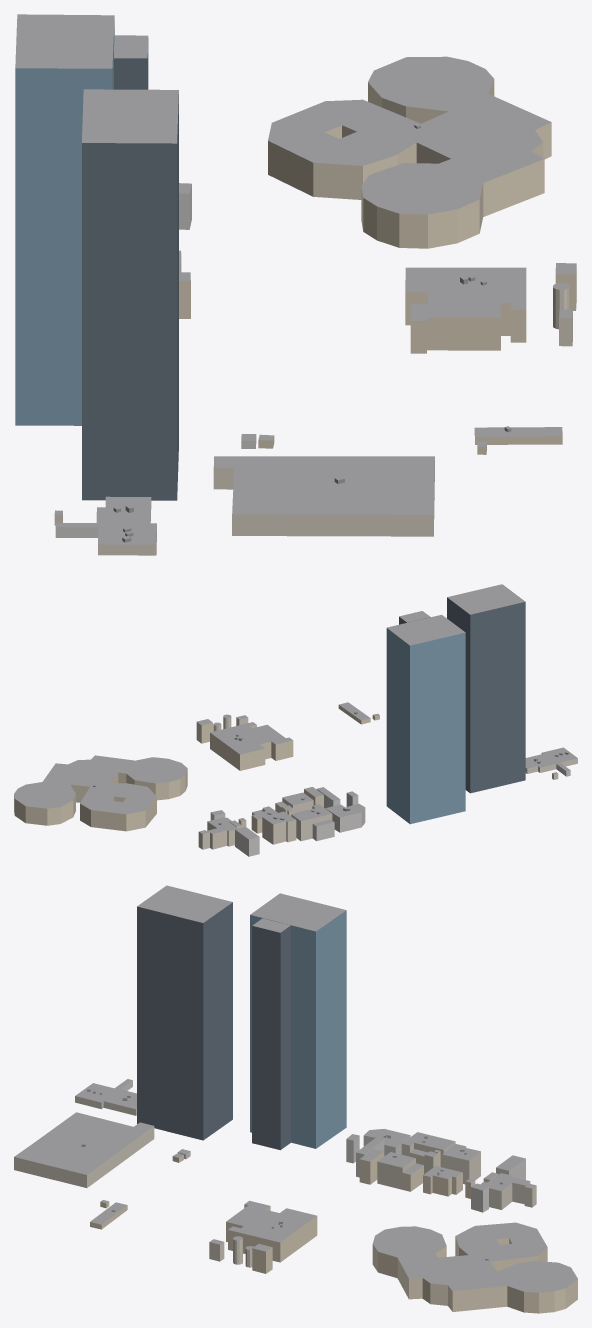
Rendered from building_-4_-4.glb.
3 renders of one model, top to bottom at view 1: azimuth 30°, elevation 25°; view 2: azimuth 150°, elevation 25°; view 3: azimuth 270°, elevation 25°, orthographic. The views are drawn at different scales.
Visible parts, largest first — view 1: roof, glass_dark, glass_blue, sandstone, concrete_warm, concrete_light; view 2: glass_blue, roof, glass_dark, sandstone, concrete_warm, concrete_light; view 3: glass_dark, roof, glass_blue, sandstone, concrete_warm, concrete_light.
Part boxes in pixels (<box>): roof: <box>15,14,576,544</box>; glass_dark: <box>82,38,178,500</box>; glass_blue: <box>15,21,114,425</box>; sandstone: <box>179,80,576,454</box>; concrete_warm: <box>54,264,572,555</box>; concrete_light: <box>55,184,256,537</box>; glass_blue: <box>386,628,465,824</box>; roof: <box>14,584,577,839</box>; glass_dark: <box>399,597,525,793</box>; sandstone: <box>14,705,379,833</box>; concrete_warm: <box>198,717,577,849</box>; concrete_light: <box>210,753,570,856</box>; glass_dark: <box>137,902,290,1150</box>; roof: <box>14,885,577,1292</box>; glass_blue: <box>250,910,346,1148</box>; sandstone: <box>90,1151,577,1313</box>; concrete_warm: <box>14,1096,536,1267</box>; concrete_light: <box>96,1080,525,1212</box>.
Bounding box in the file's own units: 297 × 132 × 310.
